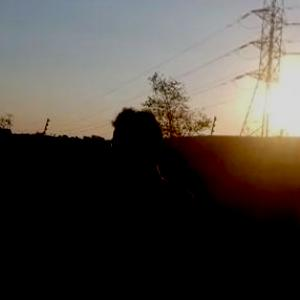follow: (71, 99, 206, 299)
